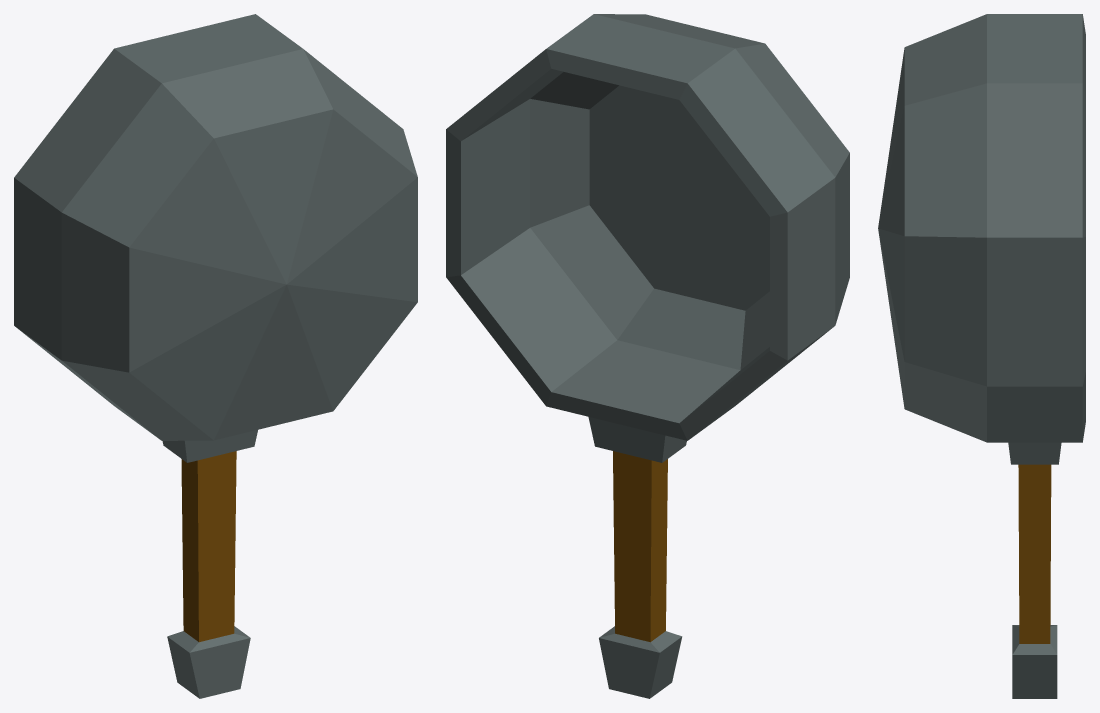
File: Cacerola.FBX
3 renders of one model, left to right at view 1: azimuth 30°, elevation 25°; view 2: azimuth 150°, elevation 25°; view 3: azimuth 270°, elevation 25°, orthographic.
Visible parts, largest first — view 1: Cylinder002; view 2: Cylinder002; view 3: Cylinder002.
Part boxes in pixels (x1,y1,x2,y2): Cylinder002: (14,14,417,698); Cylinder002: (446,14,849,698); Cylinder002: (878,14,1085,698).
Size of the model in its own units: 41.3 by 73.6 by 21.66.
